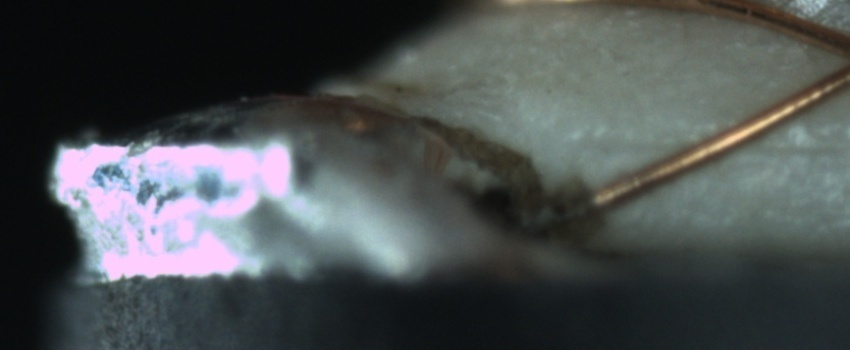DL: (601, 111, 849, 179)
